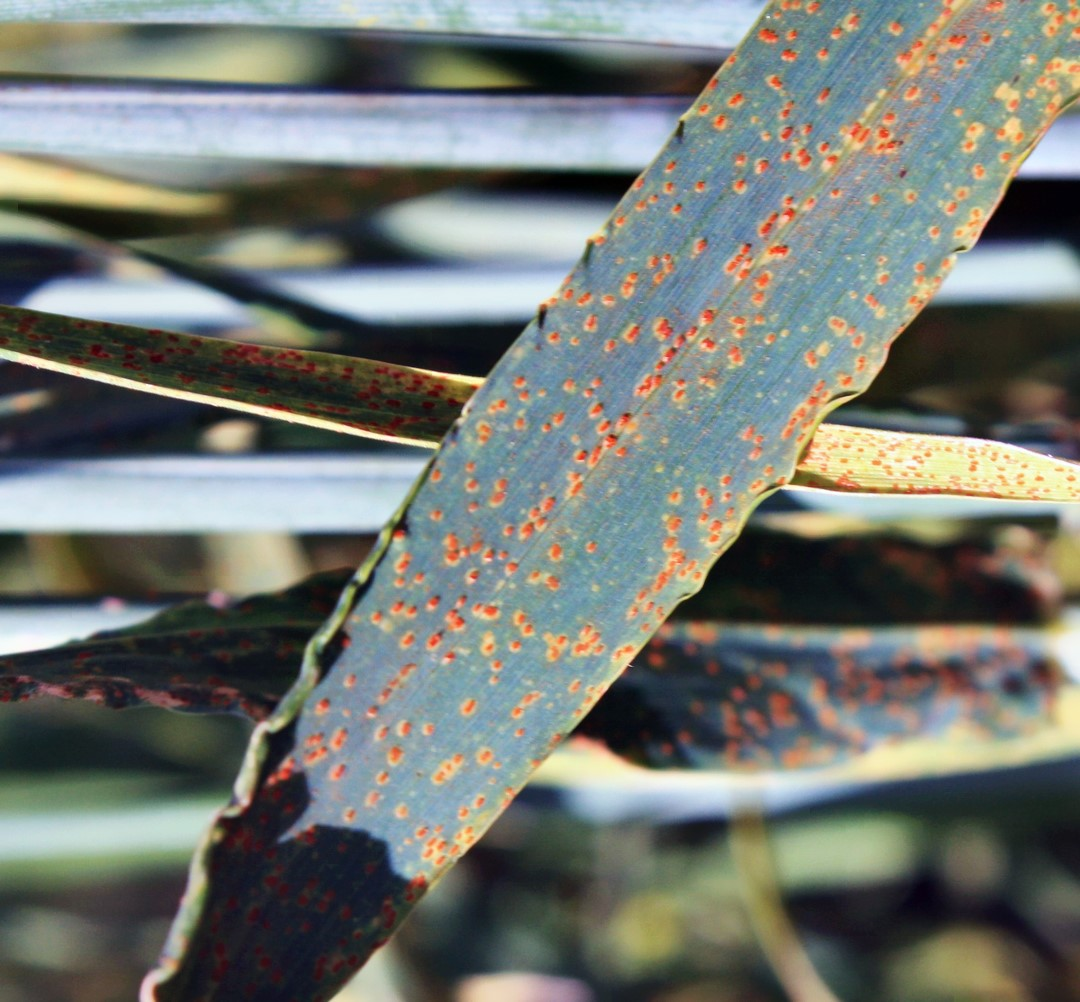Leaf Rust: (287, 48, 1009, 847)
